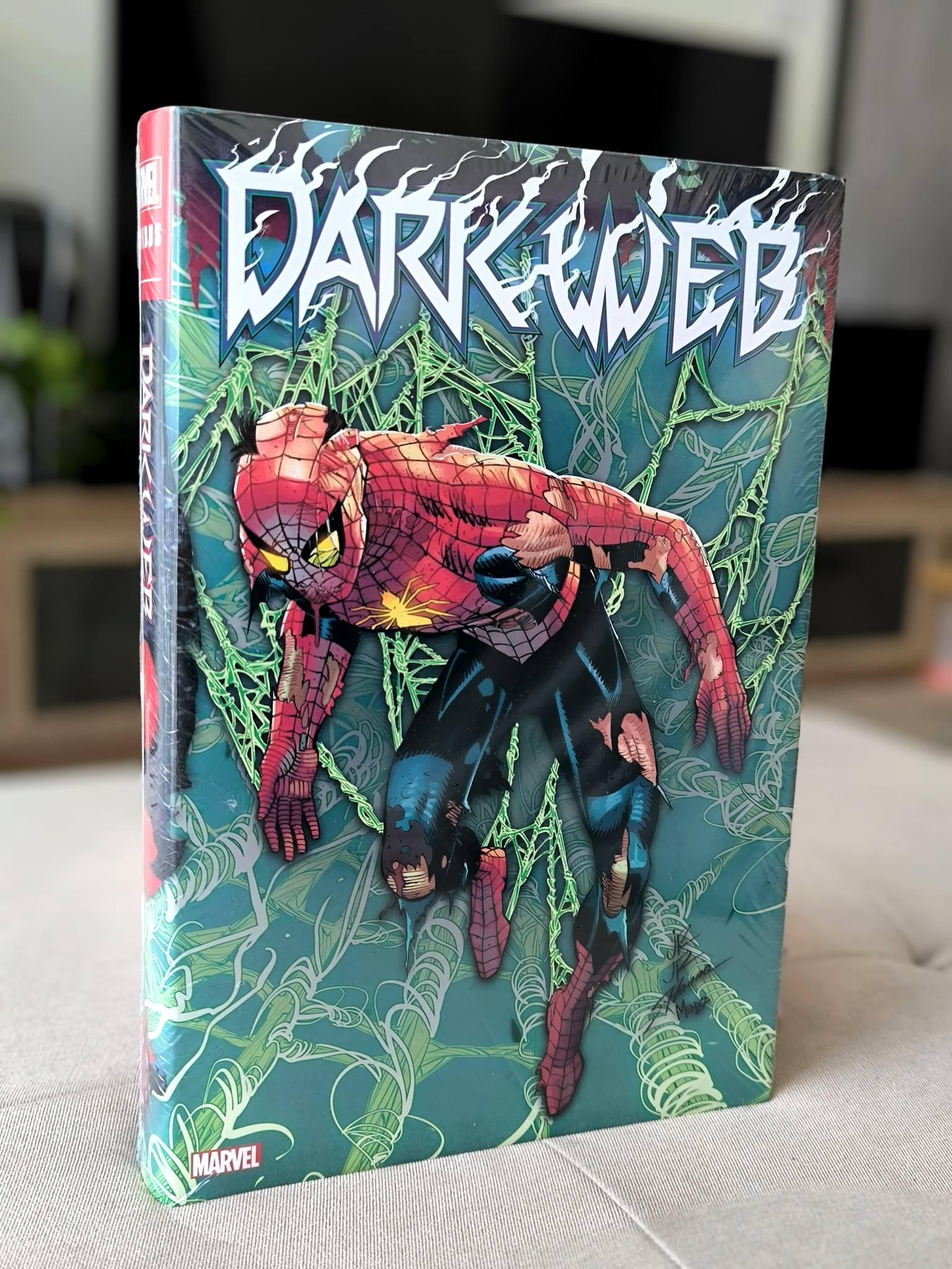comic: (138, 108, 844, 1202)
